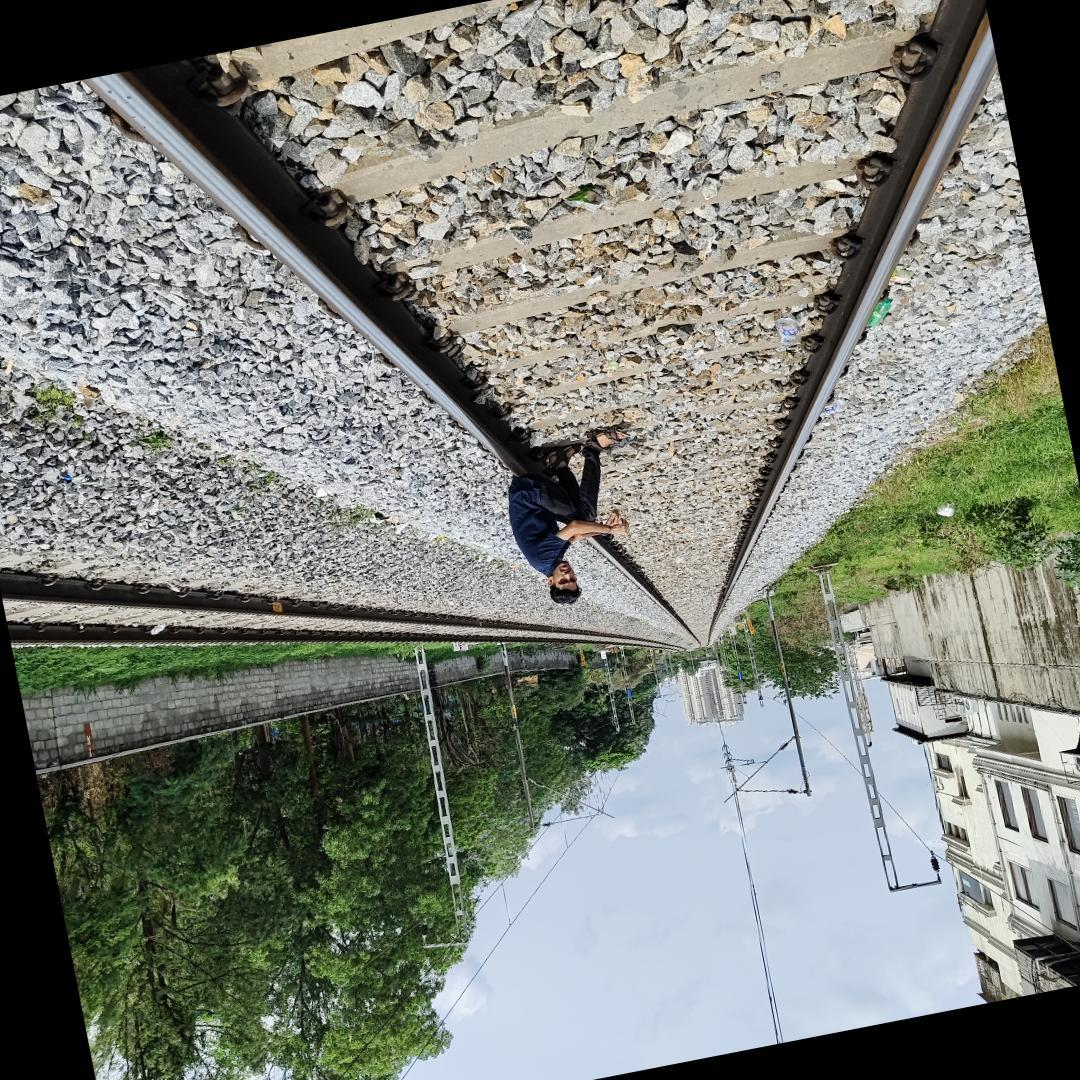sitting: (490, 414, 647, 624)
track: (43, 0, 1000, 648)
